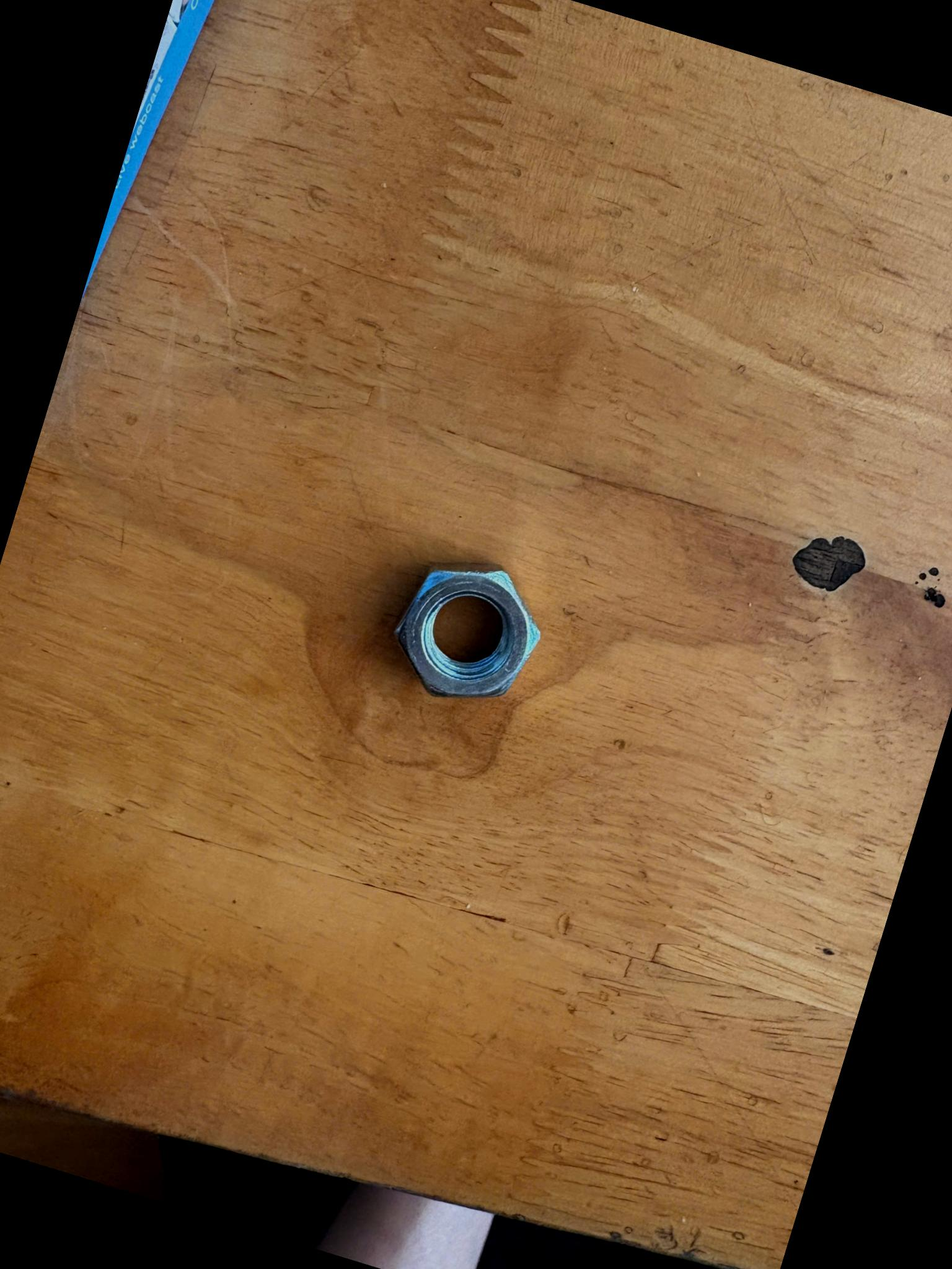nut: (362, 524, 576, 750)
